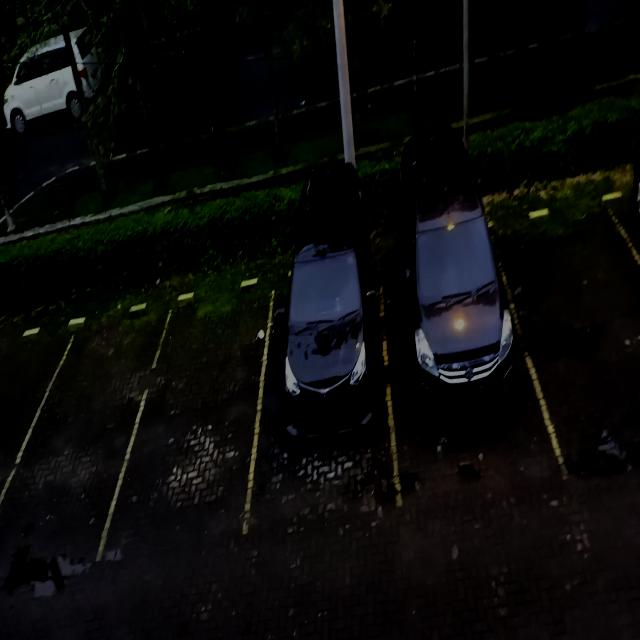empty: (129, 284, 261, 561), (515, 207, 640, 483), (23, 307, 129, 573)
occupied: (385, 182, 529, 494), (260, 216, 386, 530)
